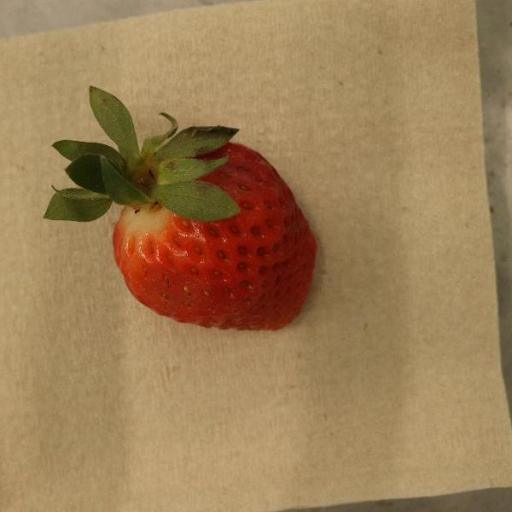Strawberry: (43, 87, 317, 331)
